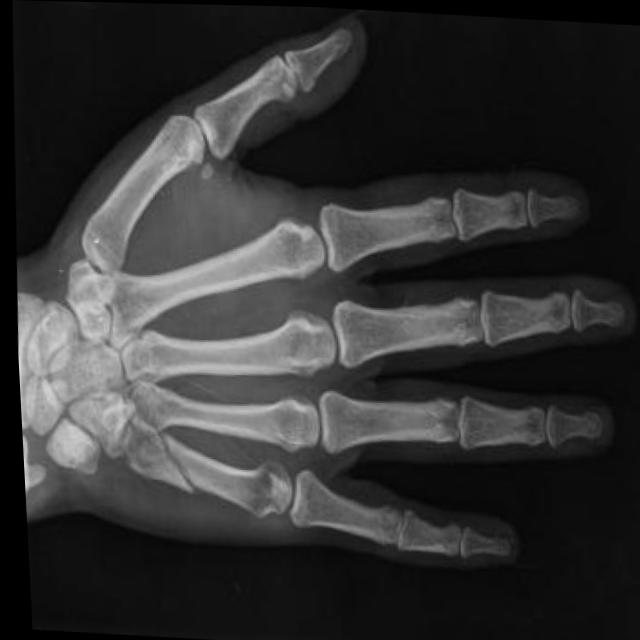fracture: (147, 433, 199, 514)
